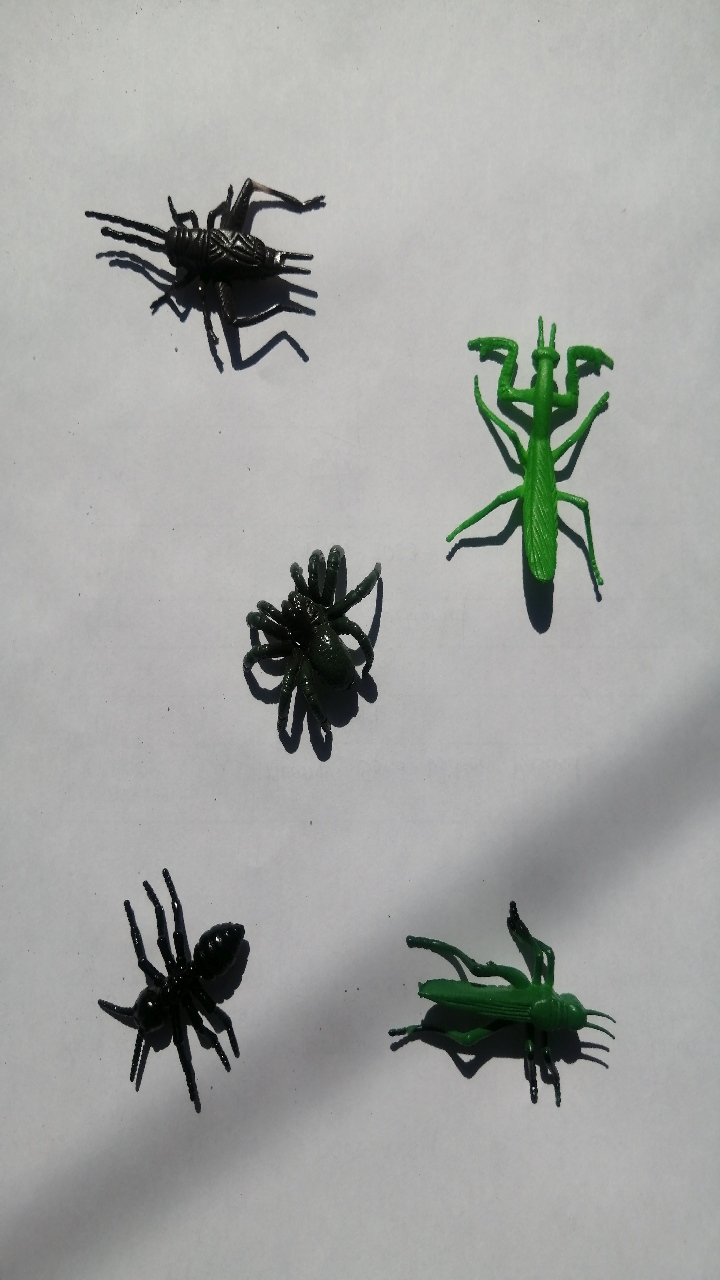intruso: (46, 123, 341, 408), (363, 863, 638, 1128), (66, 817, 292, 1125), (441, 277, 628, 628), (211, 511, 401, 775)
